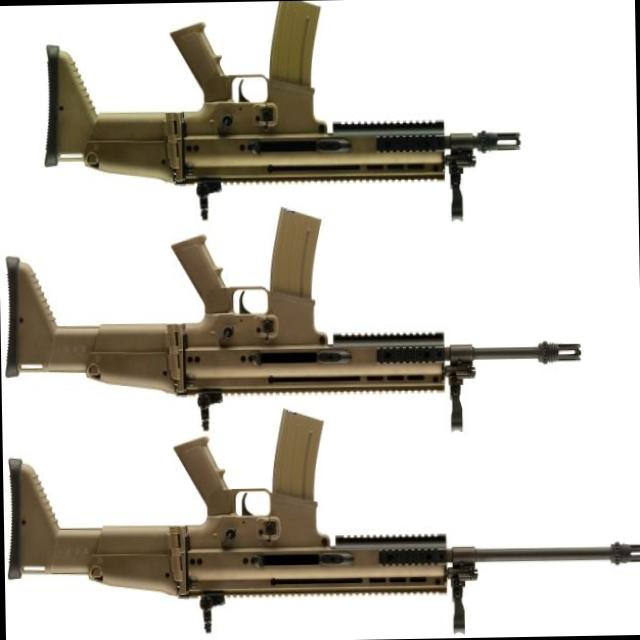Gun: (1, 184, 611, 450), (3, 389, 640, 637), (35, 1, 529, 201)
